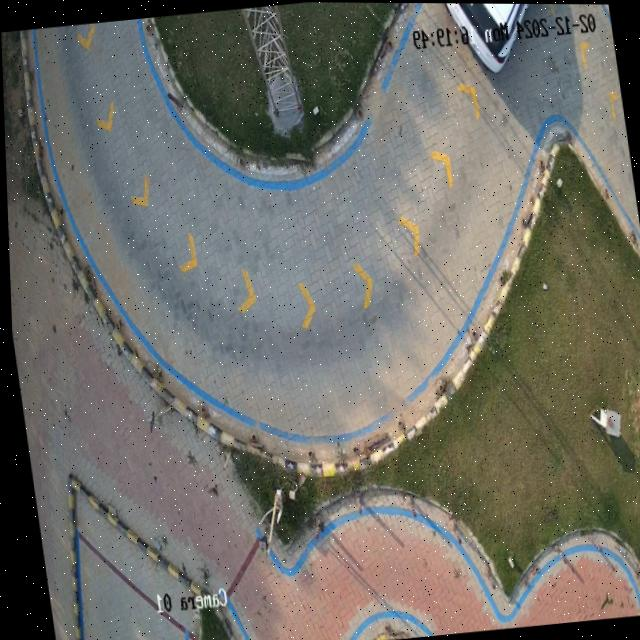car: (444, 3, 528, 73)
